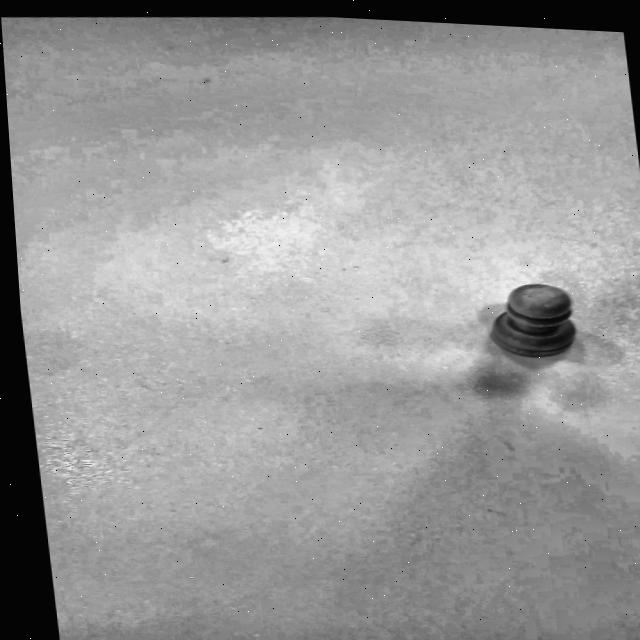white-pawn: (465, 269, 604, 392)
